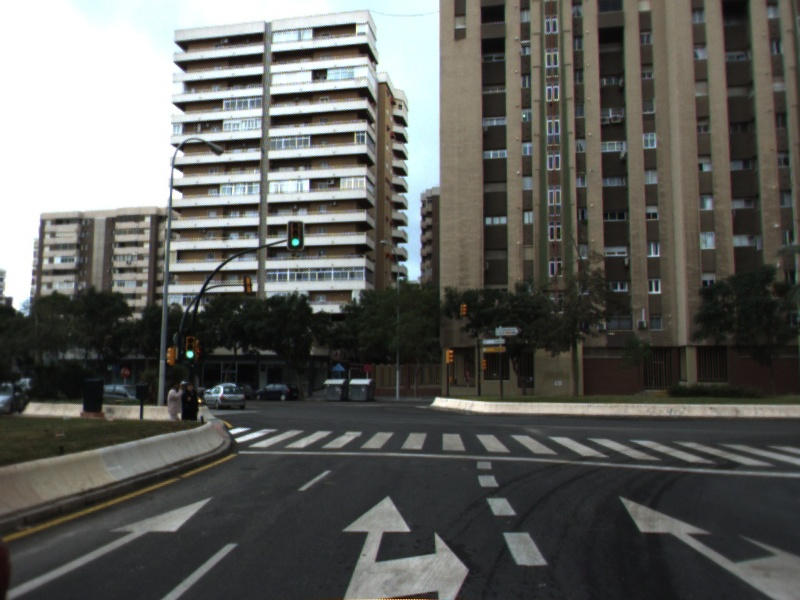STRAIGHT: (4, 491, 217, 599)
STRAIGHT_RIGHT: (615, 492, 800, 599), (337, 491, 473, 600)
